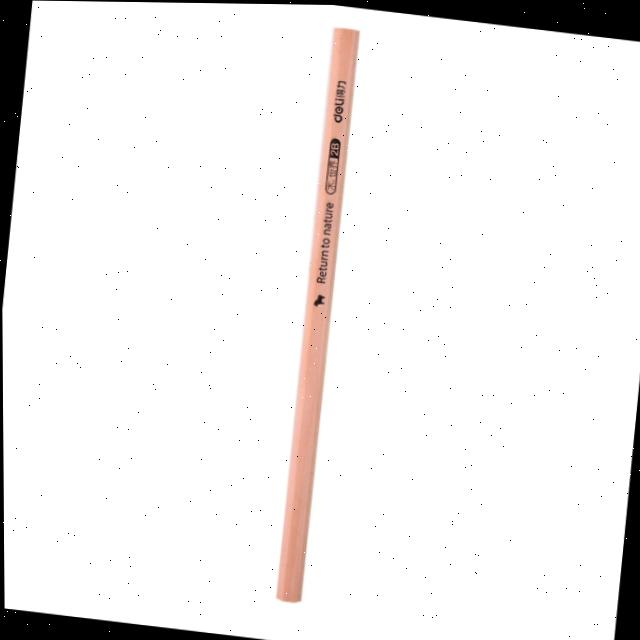pencil: (254, 14, 369, 619)
